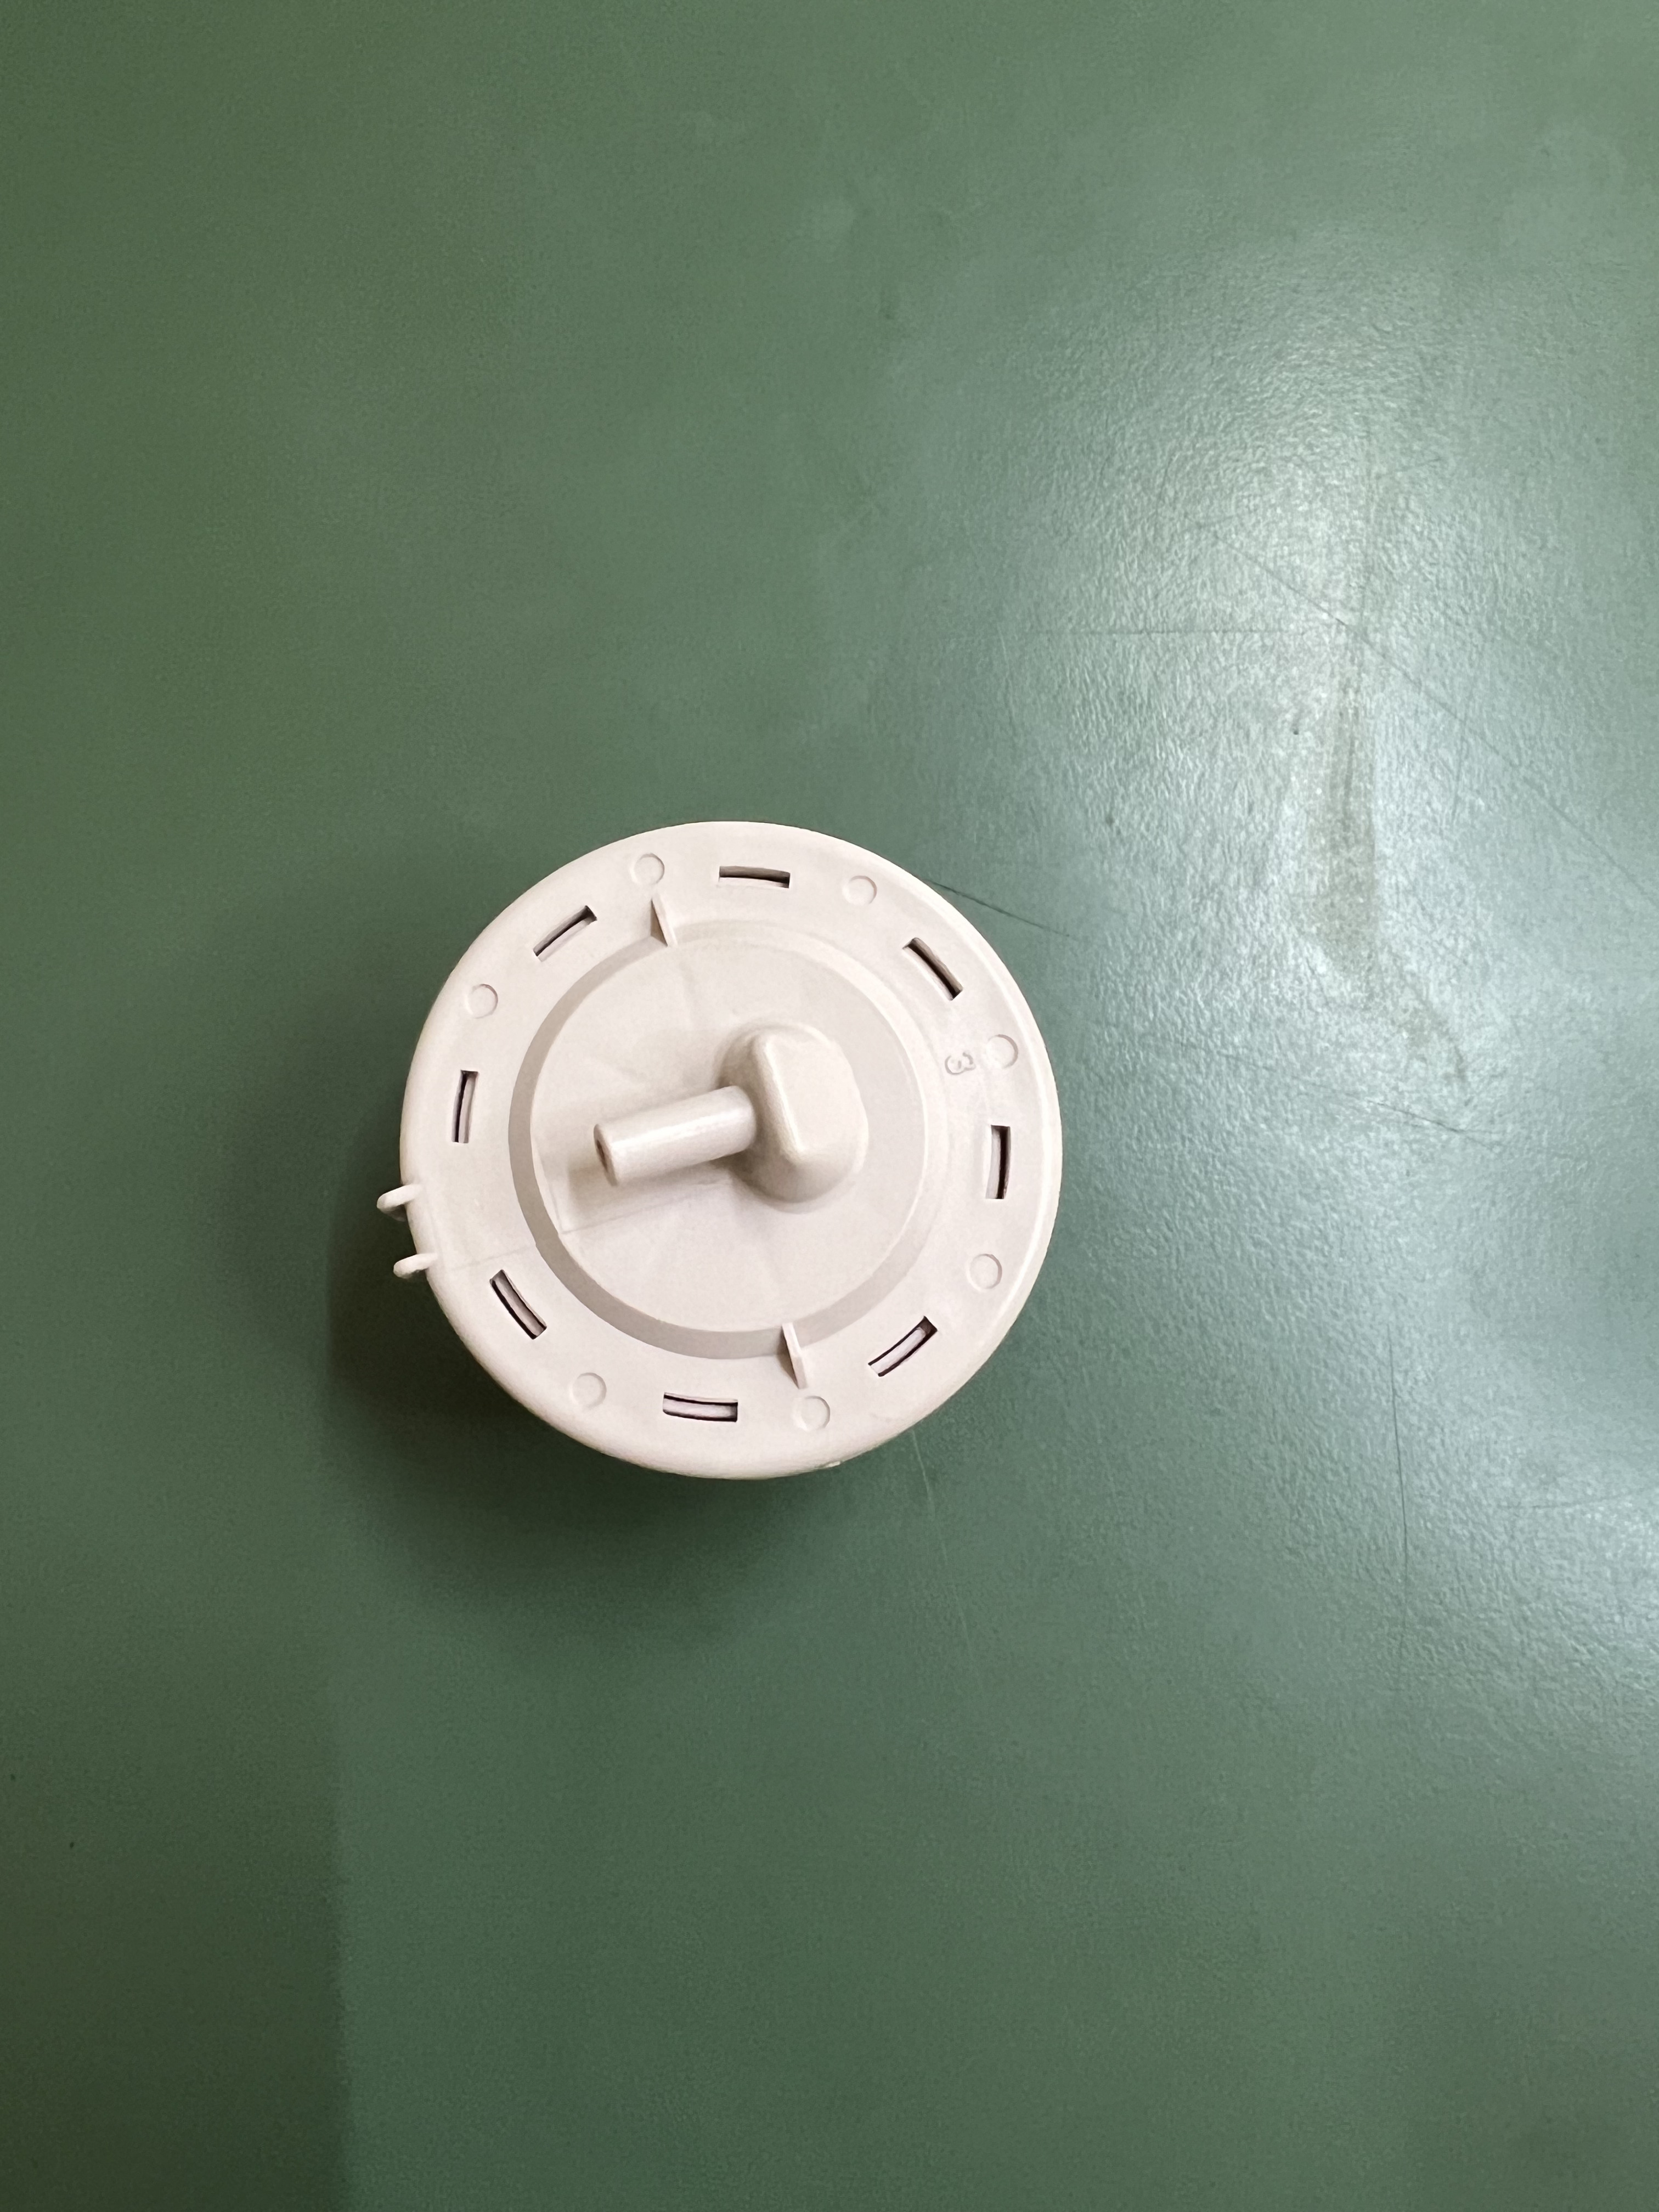pressure_sensor: (383, 836, 1079, 1503)
